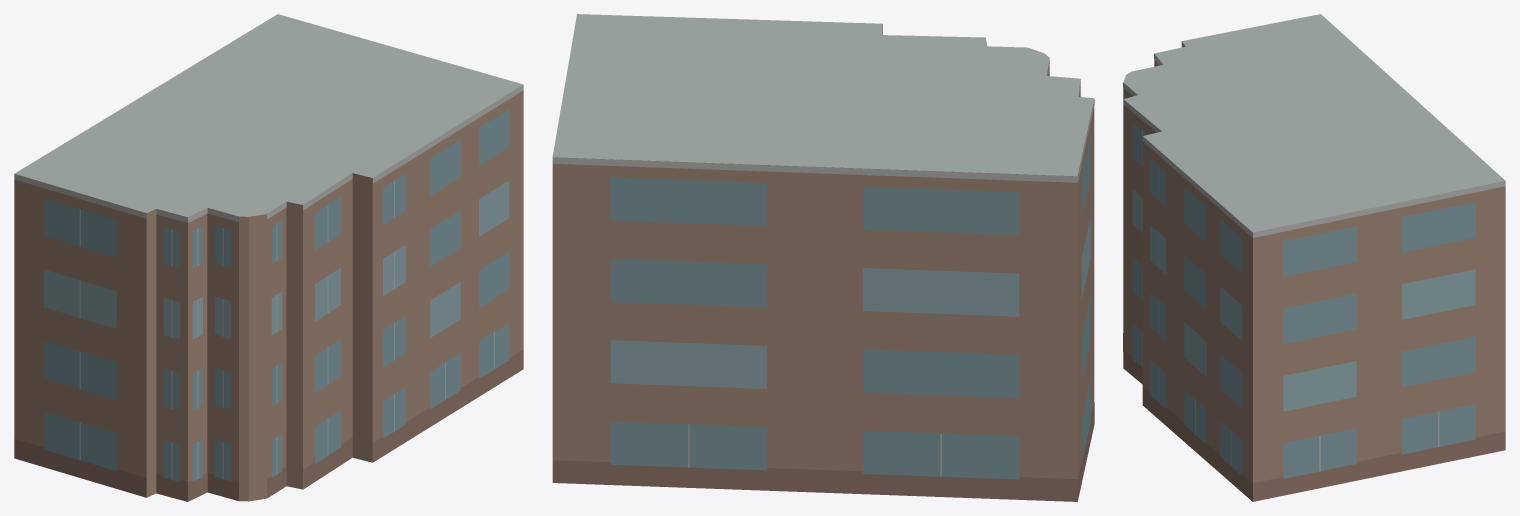
The model's file is survey-upis-32927282.glb.
The picture shows the model from 3 angles, left to right: view 1: azimuth 30°, elevation 25°; view 2: azimuth 150°, elevation 25°; view 3: azimuth 270°, elevation 25°; orthographic projection. The views are drawn at different scales.
Parts seen in each view (by area): view 1: survey-upis-32927282.tmp; view 2: survey-upis-32927282.tmp; view 3: survey-upis-32927282.tmp.
Boxes of the visible parts, <box> form: survey-upis-32927282.tmp: <box>14,14,523,501</box>; survey-upis-32927282.tmp: <box>552,14,1094,501</box>; survey-upis-32927282.tmp: <box>1123,14,1505,501</box>.
Size of the model in its own units: 21.25 by 12.2 by 15.71.
